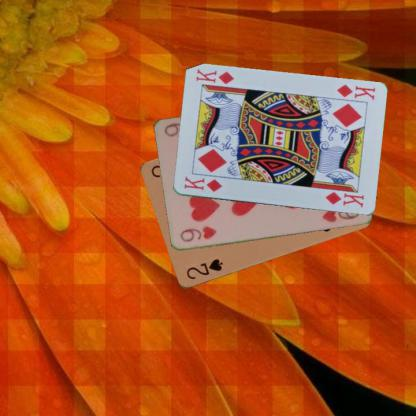2s: (184, 256, 224, 281)
9h: (177, 223, 218, 244)
Kd: (334, 82, 376, 102), (181, 174, 223, 193)
